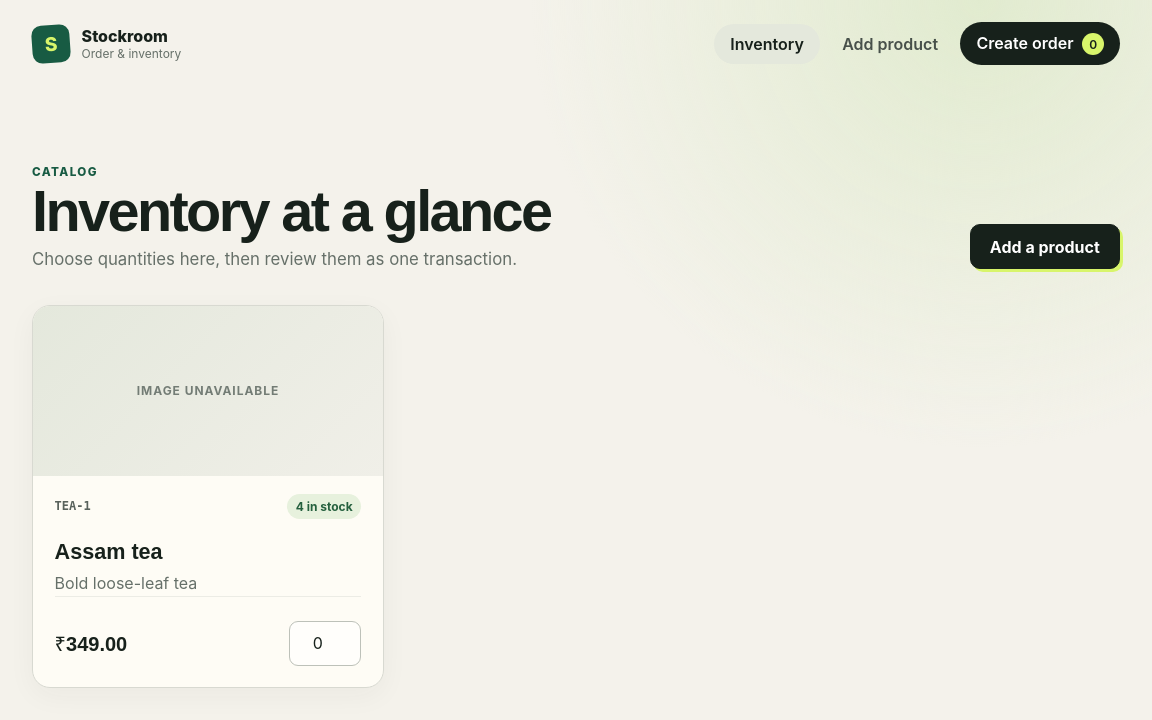
App › retains the cart when order submission has a dependency failure
Expected: the heading "Assam tea" is shown, [55,538,163,564]
Replace the text in the number field named "Quantity for Assam tea" with "2": x=325, y=643 [289,621,361,666]
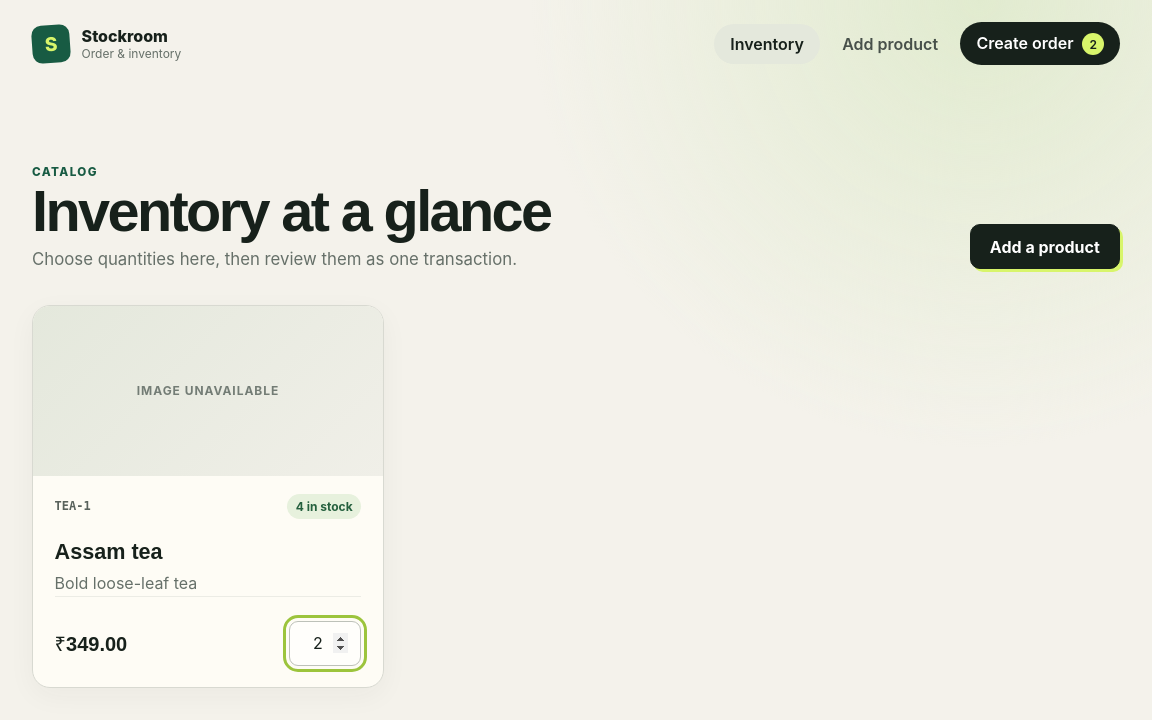
Click the button "Create order 2": x=1040, y=44 [960,22,1120,66]
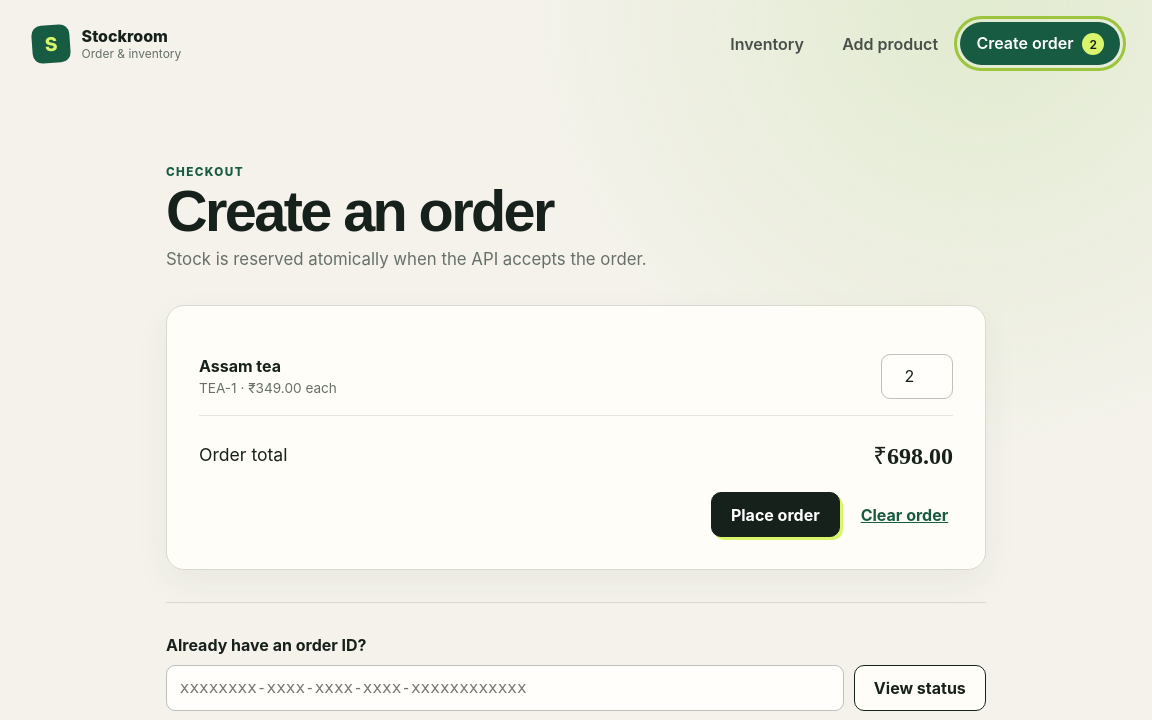
Click the button "Place order": x=775, y=515 [711,492,840,537]
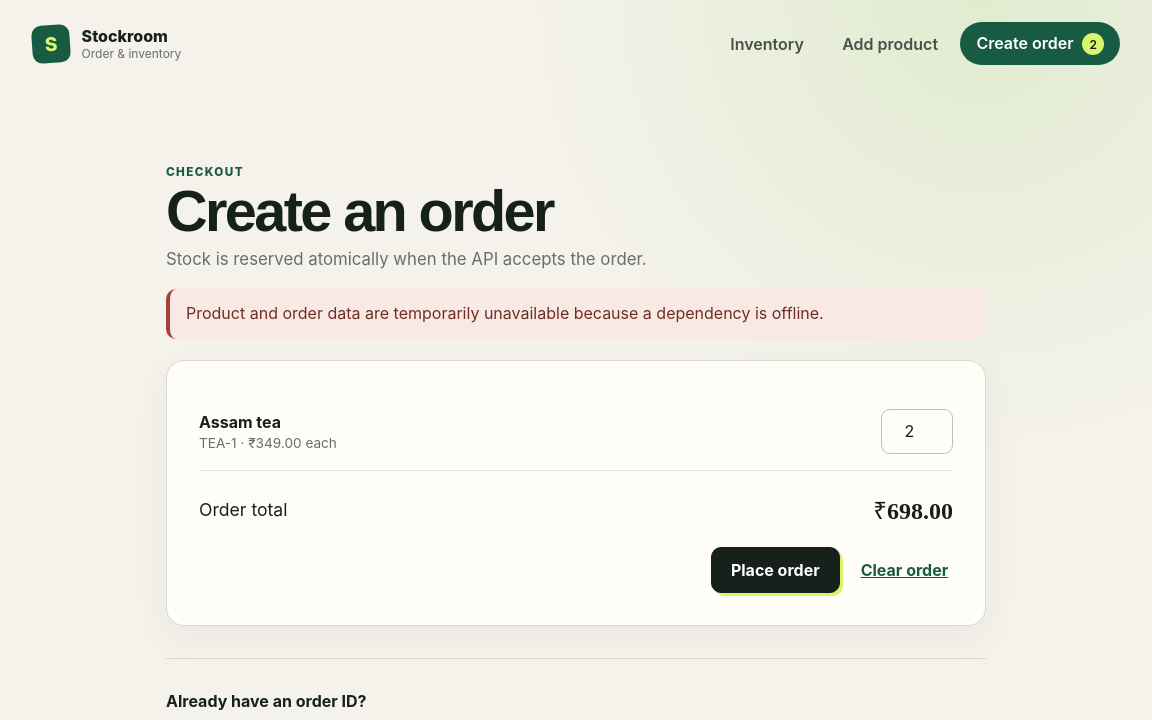
Expected: the button "Create order 2" is shown, [960,22,1120,66]
Expected: the number field named "Quantity for Assam tea" holds "2", [881,409,953,454]
Expected: the message shows "dependency is offline", [186,303,824,323]
